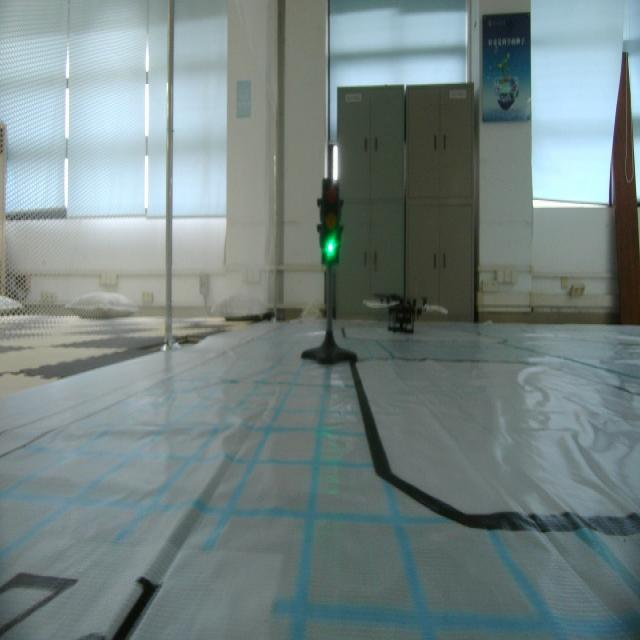green: (315, 175, 347, 272)
